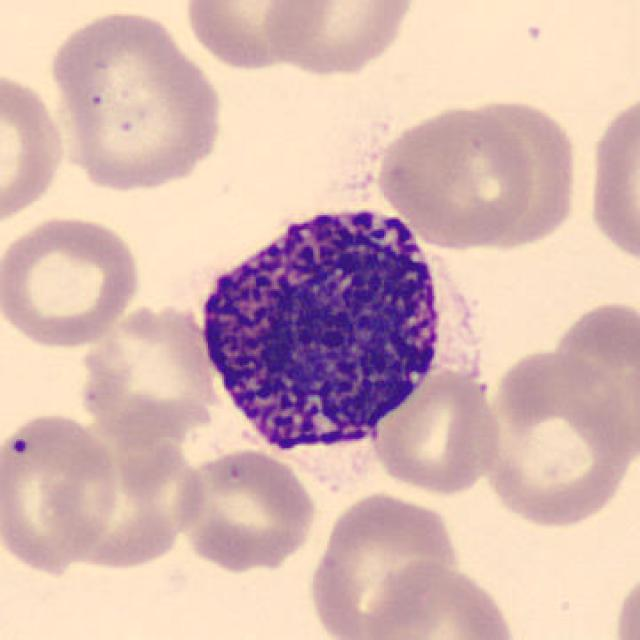basophil: (196, 197, 440, 468)
rbc: (52, 9, 218, 188), (483, 343, 628, 528), (358, 97, 532, 242), (312, 479, 462, 640), (76, 300, 224, 448), (46, 425, 209, 557), (0, 399, 111, 581), (462, 82, 576, 254), (542, 273, 640, 464), (0, 213, 146, 339), (179, 445, 332, 565), (382, 369, 507, 498), (179, 0, 342, 85), (356, 559, 522, 640), (256, 0, 414, 84), (0, 78, 71, 216), (586, 89, 640, 264), (600, 571, 640, 640)
